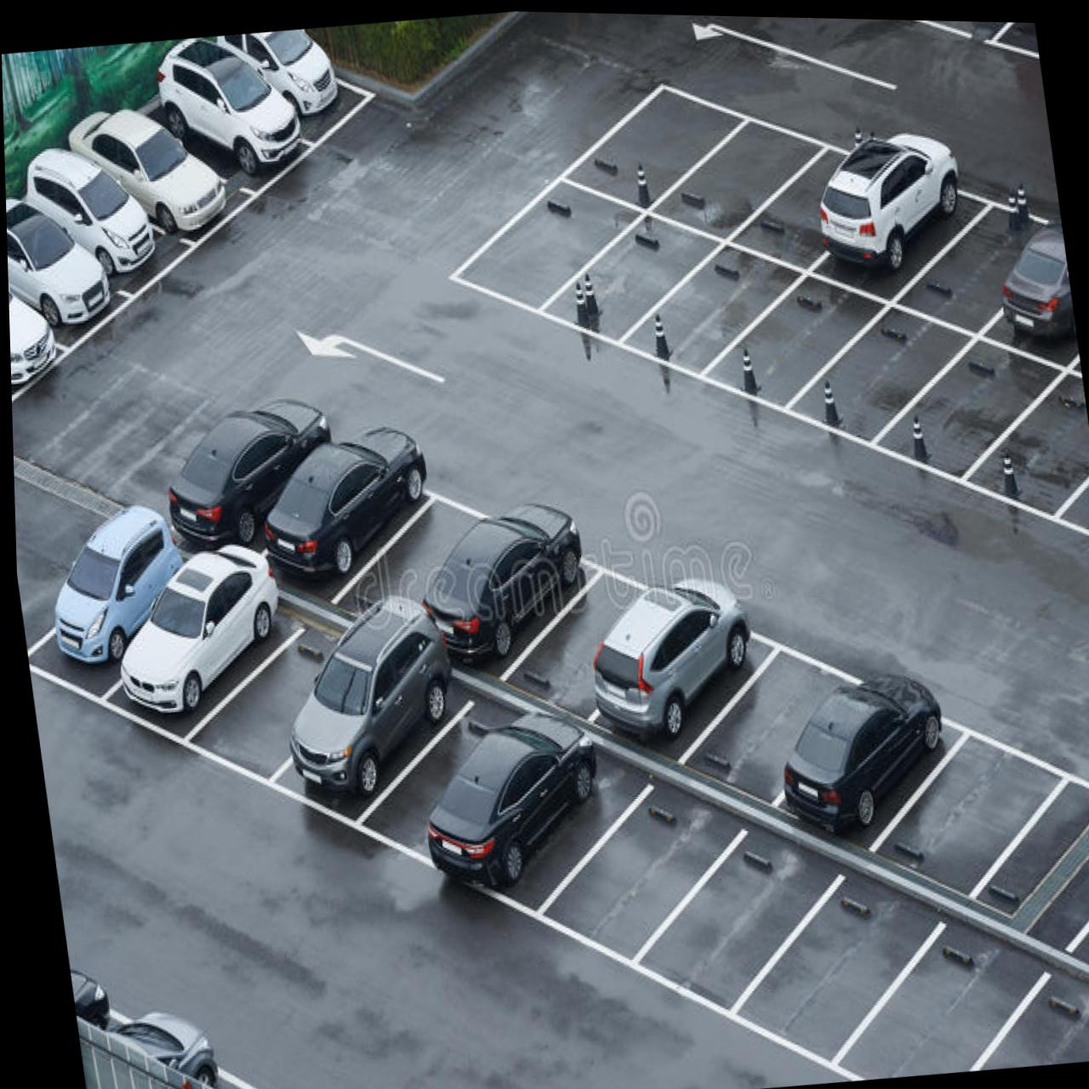cars: (293, 621, 467, 835), (448, 718, 615, 929), (936, 363, 1089, 589), (779, 666, 966, 847), (873, 321, 1021, 532), (269, 420, 447, 594), (21, 508, 184, 693), (784, 306, 942, 496), (437, 499, 593, 683), (129, 552, 277, 742), (704, 261, 854, 446), (802, 144, 982, 296), (591, 586, 764, 742), (168, 389, 340, 543), (906, 165, 1063, 331), (607, 230, 769, 381), (133, 79, 325, 201), (749, 114, 904, 265), (73, 121, 257, 248), (228, 22, 387, 146), (36, 179, 191, 305), (545, 210, 689, 340), (6, 219, 123, 359), (9, 299, 72, 422)
empty: (839, 930, 1049, 1085), (652, 821, 814, 1018), (564, 776, 732, 956), (754, 876, 911, 1067), (338, 468, 514, 635), (362, 692, 517, 869), (694, 637, 862, 800), (205, 607, 357, 786), (896, 726, 1068, 882), (457, 161, 602, 328), (510, 560, 665, 711), (655, 111, 830, 244), (578, 67, 719, 203)
